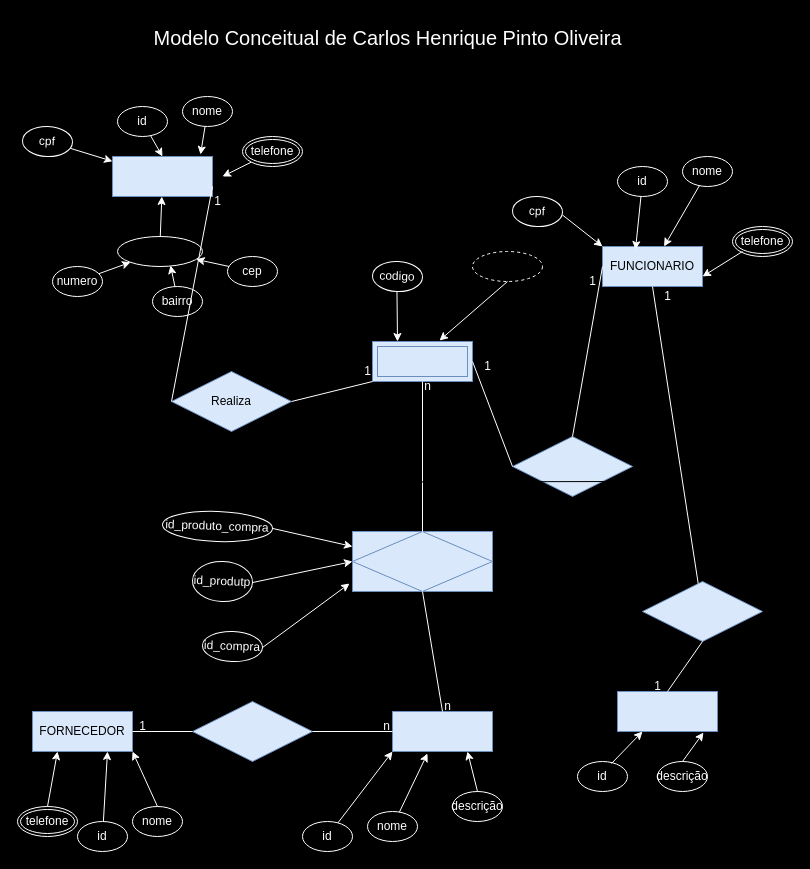
Some shapes in this 810 by 869 pixel diagram are drawn without their labels. The centre of each missing label's shape, as x and y in pixels:
CLIENTE: (x=162, y=176)
COMPRA: (x=422, y=361)
Contem produto_compra: (x=422, y=561)
DEPARTAMENTO: (x=667, y=711)
endereço: (x=159, y=251)
Fornece: (x=252, y=731)
Pertence: (x=702, y=611)
PRODUTO: (x=442, y=731)
qtd_produto: (x=507, y=266)
Registra: (x=572, y=466)
